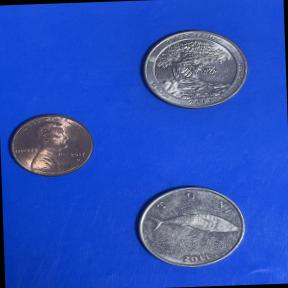coin: (130, 180, 252, 272), (135, 21, 253, 115), (1, 110, 98, 182)
